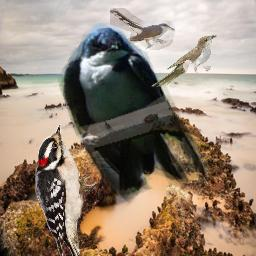Cuckoo: (151, 35, 217, 87), (110, 8, 175, 50)
Swallow: (58, 23, 212, 208)
Woodpecker: (35, 124, 96, 256)
